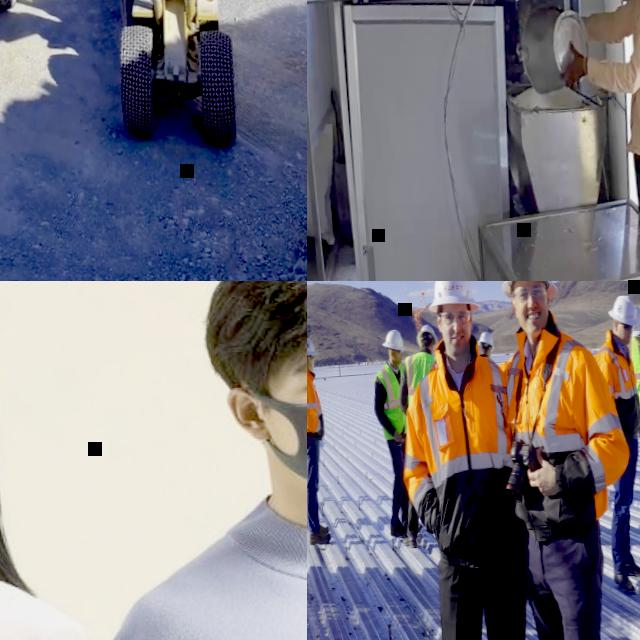Hardhat: (423, 281, 481, 314), (497, 281, 558, 301), (606, 292, 637, 329), (380, 328, 404, 353), (415, 322, 437, 346), (477, 331, 496, 352), (629, 306, 640, 336), (307, 335, 317, 360)
Mask: (252, 366, 307, 509)
NO-Hardhat: (204, 281, 307, 364)
NO-Mask: (516, 306, 547, 336), (441, 326, 468, 356), (616, 331, 632, 347), (391, 354, 402, 366), (308, 359, 314, 369), (635, 337, 640, 346)
NO-Safety Vest: (614, 0, 640, 160)
Person: (26, 281, 307, 640), (487, 281, 640, 640), (387, 281, 536, 640), (0, 318, 120, 640), (547, 0, 640, 281), (586, 294, 640, 599), (387, 323, 454, 544), (367, 326, 419, 540), (307, 336, 332, 543), (623, 303, 640, 533), (477, 329, 498, 358)
Safety Vest: (494, 305, 635, 522), (393, 336, 521, 568), (590, 329, 640, 440), (374, 360, 409, 438), (398, 351, 439, 404), (307, 362, 324, 443), (626, 328, 640, 408)
vehicle: (75, 0, 259, 163)
